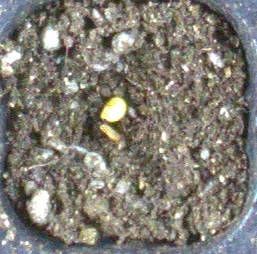chilli seed: (100, 97, 127, 122), (99, 123, 118, 141)
